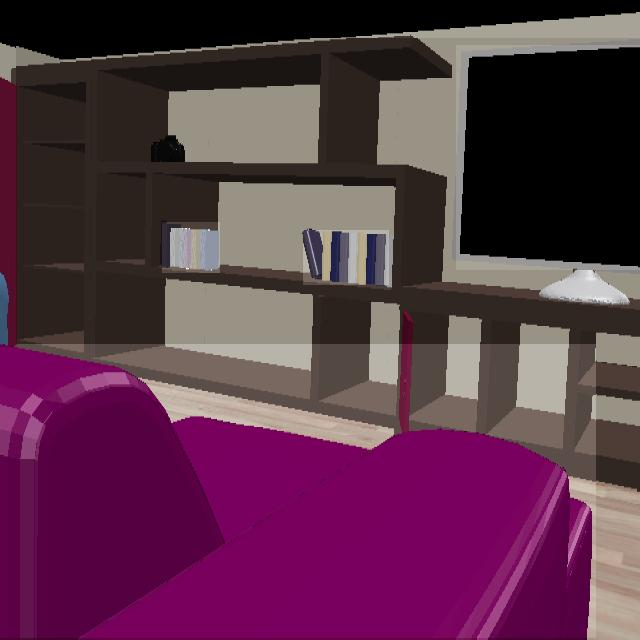book: (304, 232, 388, 285), (162, 223, 220, 273)
bookshelf: (16, 39, 640, 490)
monitor: (456, 46, 640, 270)
person: (0, 271, 15, 347)
sofa: (0, 345, 596, 639)
